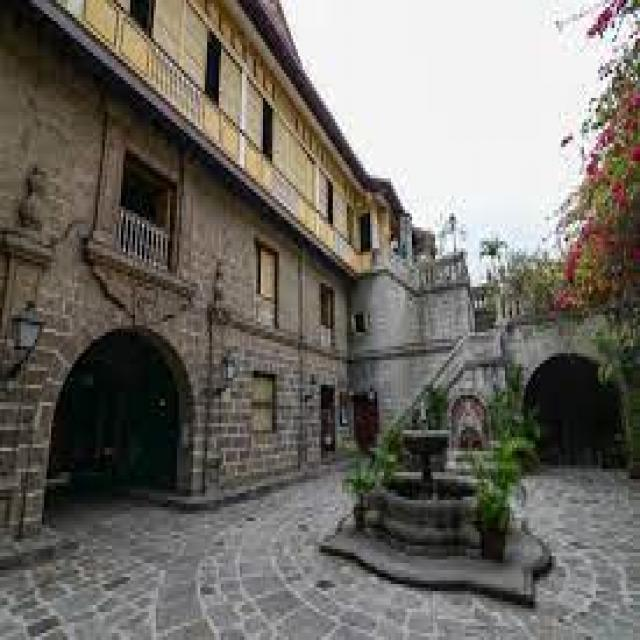Casa Manila: (0, 0, 640, 585)
